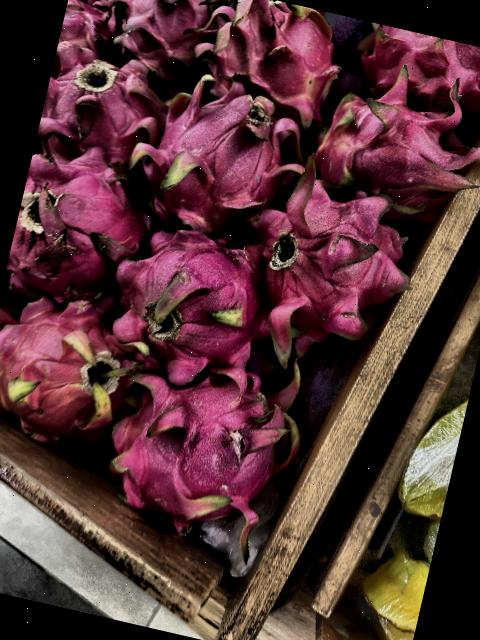buah-naga-matang: (88, 355, 320, 554), (229, 157, 428, 347), (100, 205, 290, 379), (138, 76, 306, 240), (300, 79, 480, 229), (4, 142, 168, 306), (0, 290, 159, 440), (183, 0, 355, 136), (35, 32, 171, 166), (347, 20, 480, 118), (101, 0, 227, 85), (53, 0, 123, 75)
